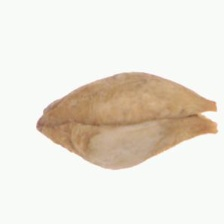L1: (35, 102, 61, 144), (194, 97, 219, 136)
L2: (35, 71, 219, 170)
